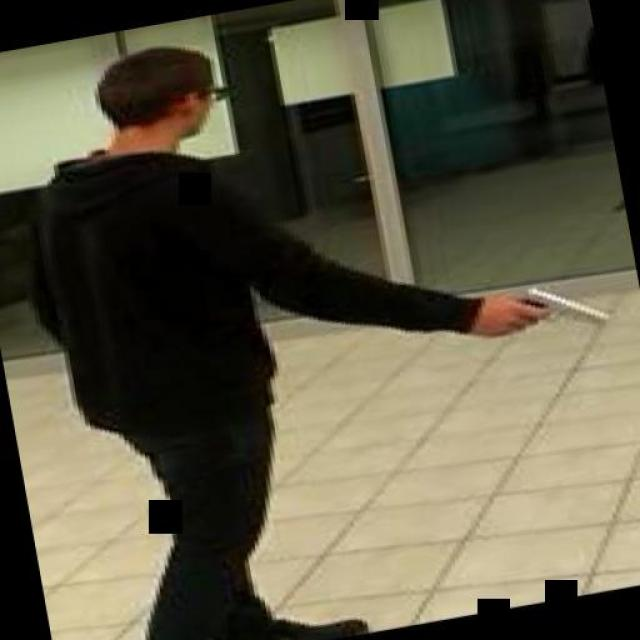gun: (475, 270, 610, 346)
